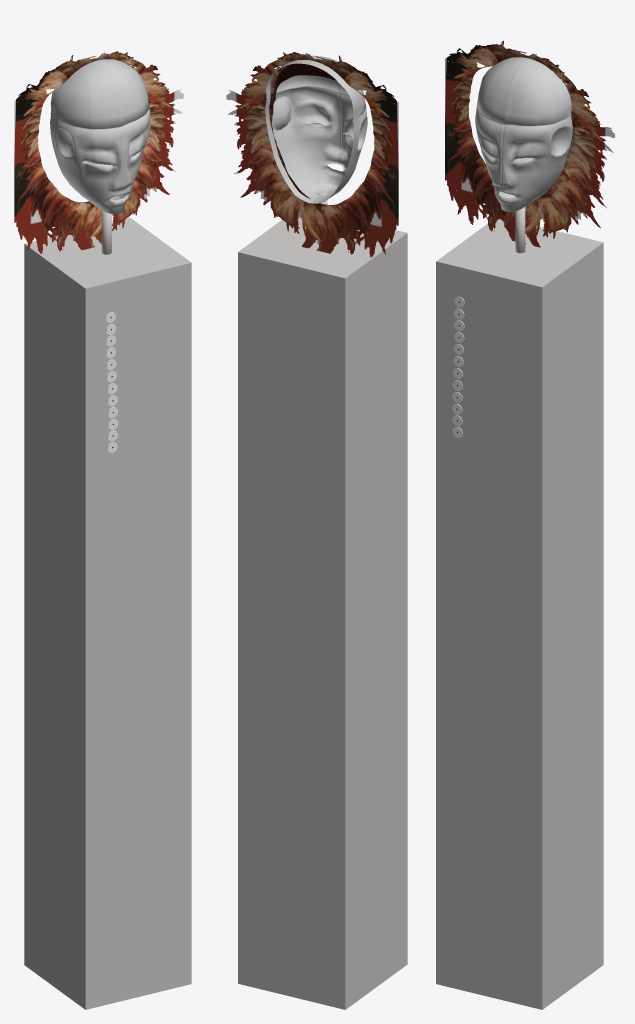
File: mask.dae
3 renders of one model, left to right at view 1: azimuth 30°, elevation 25°; view 2: azimuth 150°, elevation 25°; view 3: azimuth 330°, elevation 25°, orthographic.
Visible parts, largest first — view 1: Cube, feather, mask, Cylinder001; view 2: Cube, feather, mask; view 3: Cube, feather, mask, Cylinder001.
Boxes of the visible parts, <box> form: Cube: <box>24,218,191,1009</box>; feather: <box>14,51,184,253</box>; mask: <box>50,57,150,214</box>; Cylinder001: <box>101,210,111,254</box>; Cube: <box>238,216,407,1009</box>; feather: <box>226,52,398,257</box>; mask: <box>265,55,367,203</box>; Cube: <box>436,219,603,1009</box>; feather: <box>445,40,615,247</box>; mask: <box>475,55,572,211</box>; Cylinder001: <box>515,207,525,253</box>.
Bounding box in the file's own units: 3.66 × 2.33 × 18.52.
